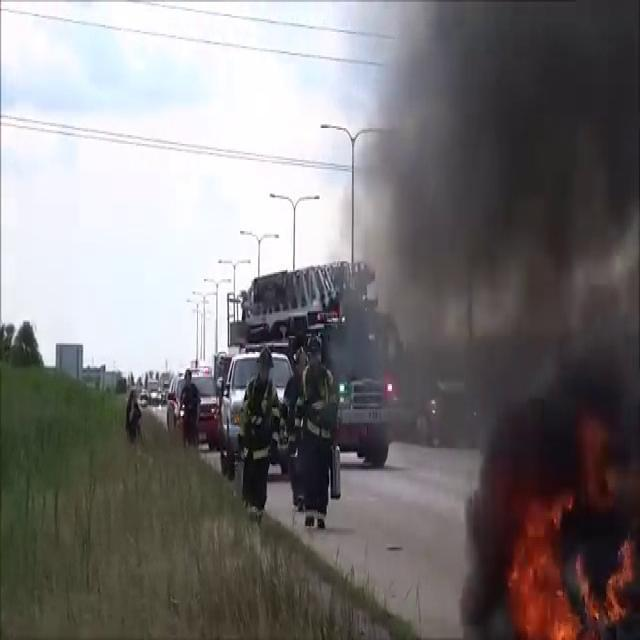Fire: (502, 503, 638, 637)
Smoke: (334, 1, 640, 481)
